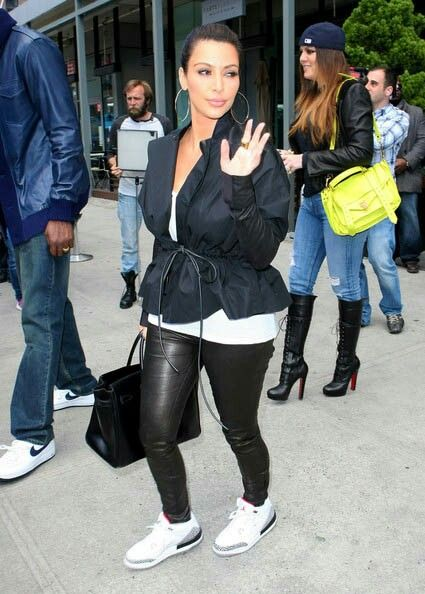Person: (135, 35, 285, 564), (3, 1, 89, 482), (276, 20, 374, 389)
